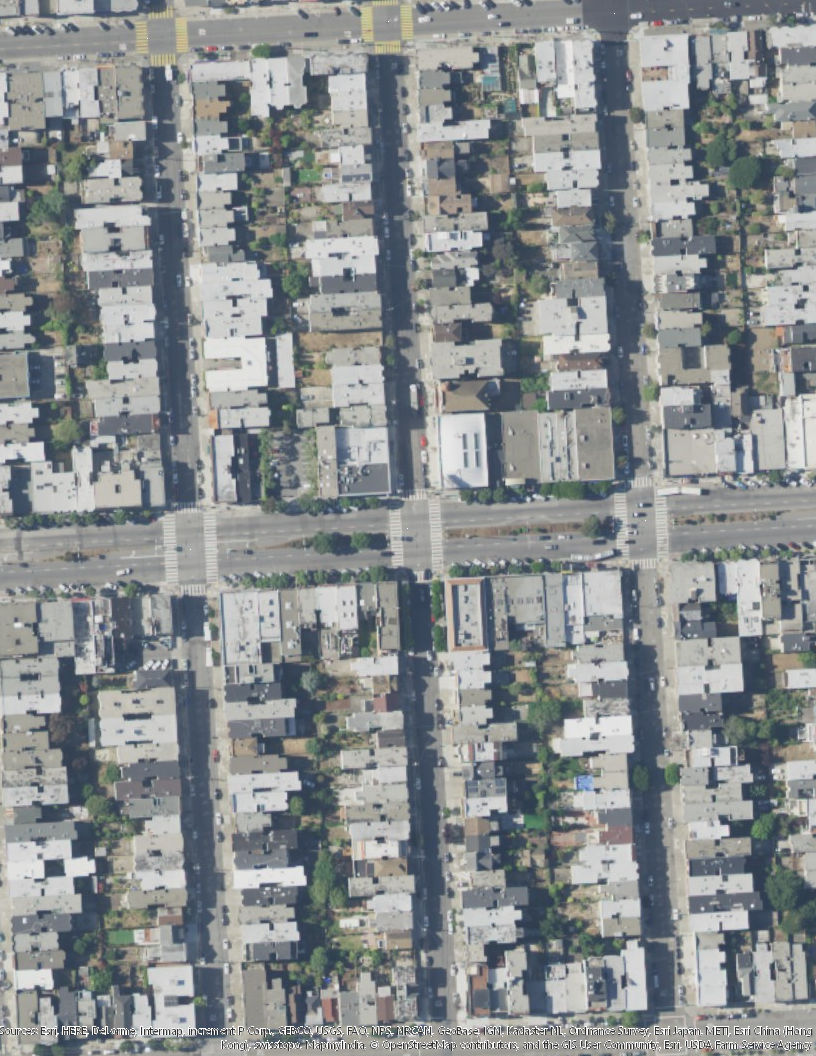zebracross: (200, 511, 220, 582), (387, 502, 407, 565), (427, 496, 443, 568), (162, 513, 179, 579), (613, 492, 630, 558), (653, 490, 670, 554), (132, 20, 151, 54), (359, 6, 375, 43), (399, 6, 415, 41), (176, 15, 189, 49), (629, 557, 659, 570), (374, 41, 401, 55), (148, 6, 174, 20), (174, 500, 201, 513), (180, 582, 206, 595), (150, 54, 175, 67), (628, 478, 655, 490), (404, 488, 427, 502), (367, 1, 399, 5)
